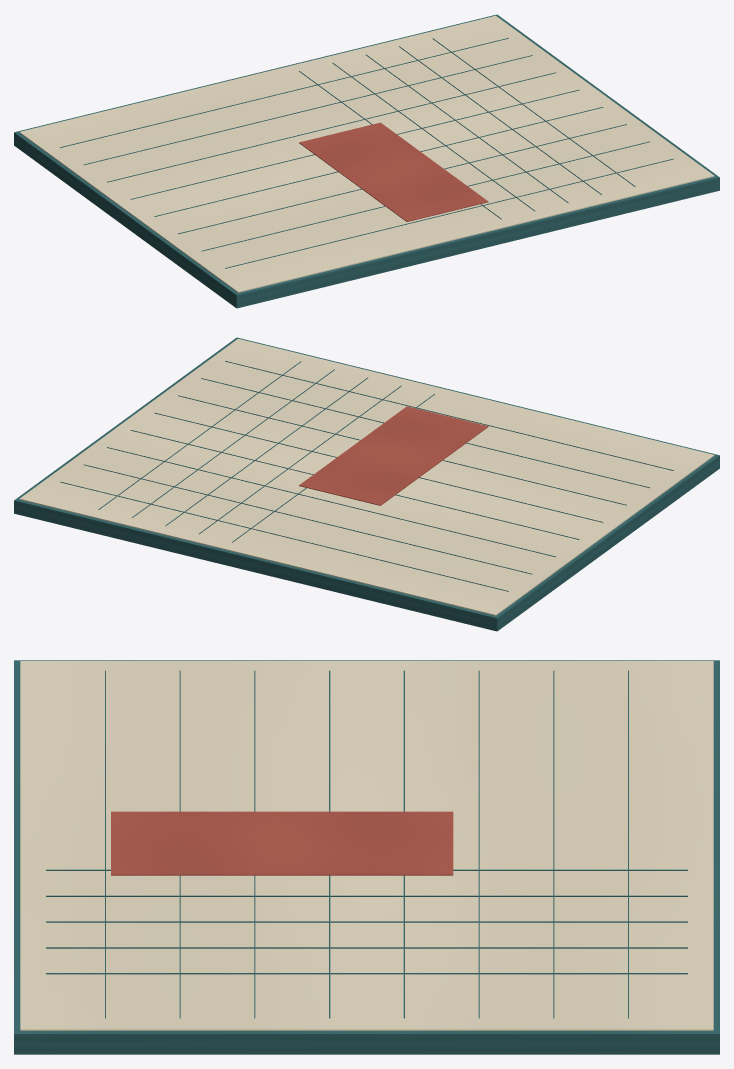
Rendered from atlas100-s032-a07.lod2.glb.
The picture shows the model from 3 angles, top to bottom: view 1: azimuth 30°, elevation 25°; view 2: azimuth 150°, elevation 25°; view 3: azimuth 270°, elevation 25°; orthographic projection. The views are drawn at different scales.
Visible parts, largest first — view 1: atlas100-s032-a07:part-001, atlas100-s032-a07:part-000, atlas100-s032-a07:part-021, atlas100-s032-a07:part-014, atlas100-s032-a07:part-013, atlas100-s032-a07:part-015, atlas100-s032-a07:part-020, atlas100-s032-a07:part-017, atlas100-s032-a07:part-019, atlas100-s032-a07:part-016, atlas100-s032-a07:part-018; view 2: atlas100-s032-a07:part-001, atlas100-s032-a07:part-000, atlas100-s032-a07:part-021, atlas100-s032-a07:part-014, atlas100-s032-a07:part-013, atlas100-s032-a07:part-020, atlas100-s032-a07:part-015, atlas100-s032-a07:part-016, atlas100-s032-a07:part-019, atlas100-s032-a07:part-017, atlas100-s032-a07:part-018; view 3: atlas100-s032-a07:part-001, atlas100-s032-a07:part-000, atlas100-s032-a07:part-021, atlas100-s032-a07:part-009, atlas100-s032-a07:part-010, atlas100-s032-a07:part-011, atlas100-s032-a07:part-012, atlas100-s032-a07:part-014, atlas100-s032-a07:part-015.
Boxes of the visible parts, left/top/right/bottom form: atlas100-s032-a07:part-001: left=19, top=15, right=714, bottom=292; atlas100-s032-a07:part-000: left=14, top=14, right=719, bottom=308; atlas100-s032-a07:part-021: left=299, top=122, right=488, bottom=221; atlas100-s032-a07:part-014: left=84, top=55, right=532, bottom=164; atlas100-s032-a07:part-013: left=60, top=38, right=508, bottom=147; atlas100-s032-a07:part-015: left=107, top=72, right=555, bottom=182; atlas100-s032-a07:part-020: left=225, top=158, right=673, bottom=268; atlas100-s032-a07:part-017: left=154, top=107, right=603, bottom=216; atlas100-s032-a07:part-019: left=201, top=141, right=650, bottom=251; atlas100-s032-a07:part-016: left=130, top=89, right=579, bottom=199; atlas100-s032-a07:part-018: left=178, top=124, right=626, bottom=234; atlas100-s032-a07:part-001: left=19, top=338, right=714, bottom=615; atlas100-s032-a07:part-000: left=14, top=337, right=719, bottom=631; atlas100-s032-a07:part-021: left=299, top=406, right=488, bottom=505; atlas100-s032-a07:part-014: left=83, top=464, right=532, bottom=574; atlas100-s032-a07:part-013: left=60, top=481, right=508, bottom=591; atlas100-s032-a07:part-020: left=225, top=361, right=673, bottom=470; atlas100-s032-a07:part-015: left=107, top=447, right=555, bottom=557; atlas100-s032-a07:part-016: left=130, top=430, right=579, bottom=539; atlas100-s032-a07:part-019: left=201, top=378, right=649, bottom=487; atlas100-s032-a07:part-017: left=154, top=412, right=603, bottom=522; atlas100-s032-a07:part-018: left=178, top=395, right=626, bottom=505; atlas100-s032-a07:part-001: left=20, top=661, right=713, bottom=1030; atlas100-s032-a07:part-000: left=14, top=660, right=719, bottom=1054; atlas100-s032-a07:part-021: left=111, top=811, right=453, bottom=875; atlas100-s032-a07:part-009: left=46, top=895, right=687, bottom=896; atlas100-s032-a07:part-010: left=46, top=921, right=687, bottom=922; atlas100-s032-a07:part-011: left=46, top=947, right=687, bottom=948; atlas100-s032-a07:part-012: left=46, top=973, right=687, bottom=974; atlas100-s032-a07:part-014: left=553, top=670, right=554, bottom=1018; atlas100-s032-a07:part-015: left=478, top=670, right=479, bottom=1018.
Bounding box in the file's own units: 13.02 × 0.404 × 10.4.
Materials: 3 (3 with a texture image).
